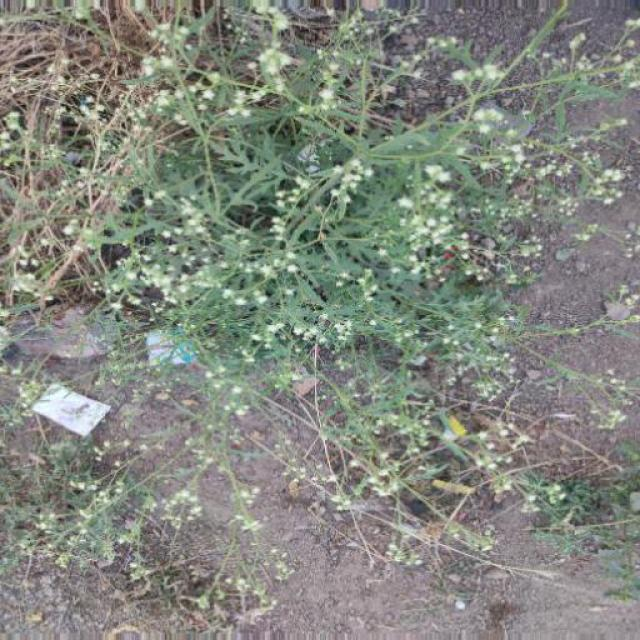weed: (46, 29, 474, 341)
